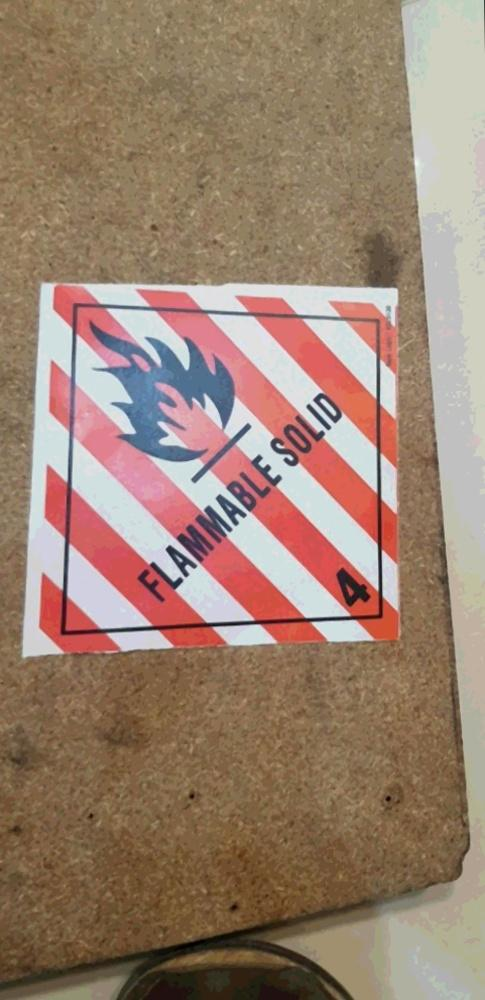flammable-solid: (28, 278, 404, 661)
